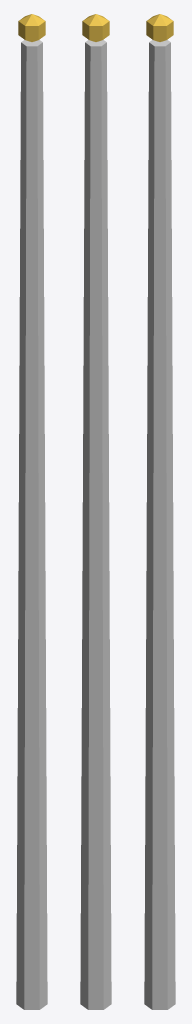
Rendered from flagpole.glb.
3 renders of one model, left to right at view 1: azimuth 90°, elevation 25°; view 2: azimuth 150°, elevation 25°; view 3: azimuth 270°, elevation 25°, orthographic.
Visible parts, largest first — view 1: Body; view 2: Body; view 3: Body.
Boxes of the visible parts, x1,y1,x2,y2 form: Body: (16,14,47,1009); Body: (80,14,111,1009); Body: (144,14,175,1009).
Bounding box in the file's own units: 0.0866 × 3.5 × 0.1.
